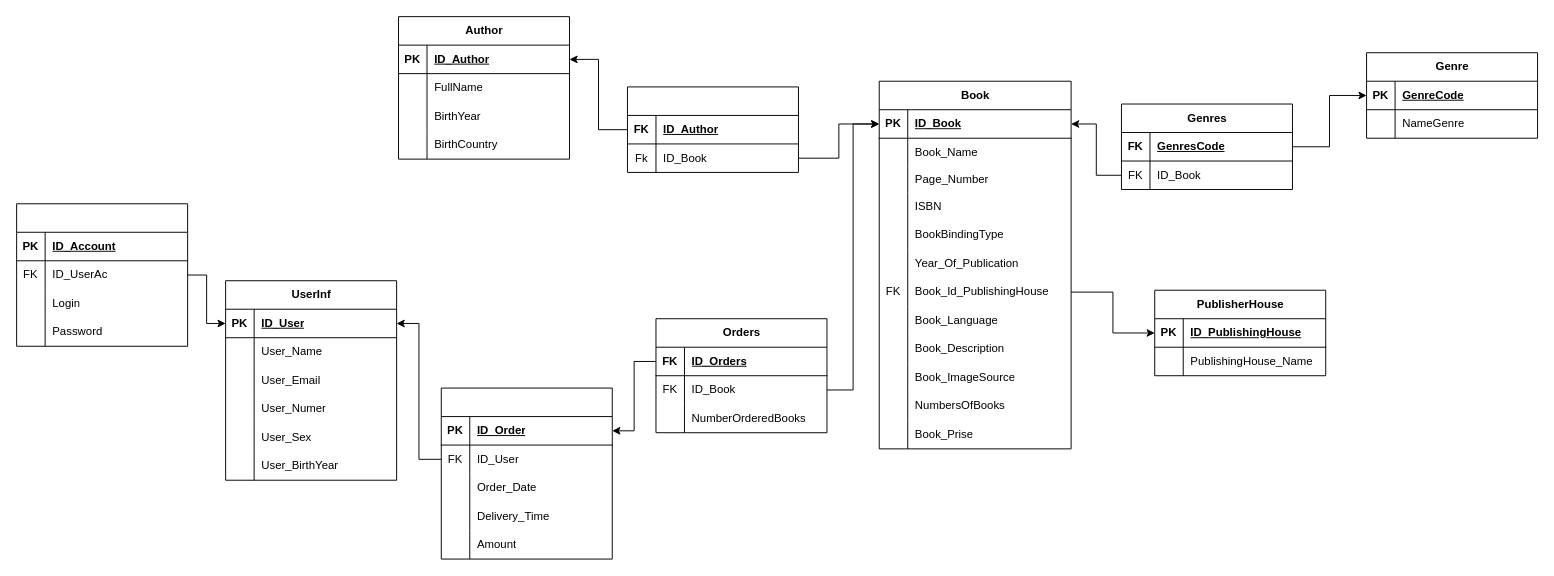
The diagram is 1554 pixels wide and 576 high, and some of its shapes have lost their labels. Here are the shapes that lost their labels. From the top down, the box of each, then its label:
(627, 86, 798, 172): Authors
(16, 203, 188, 346): UserAccount
(440, 387, 612, 559): OrderInf
